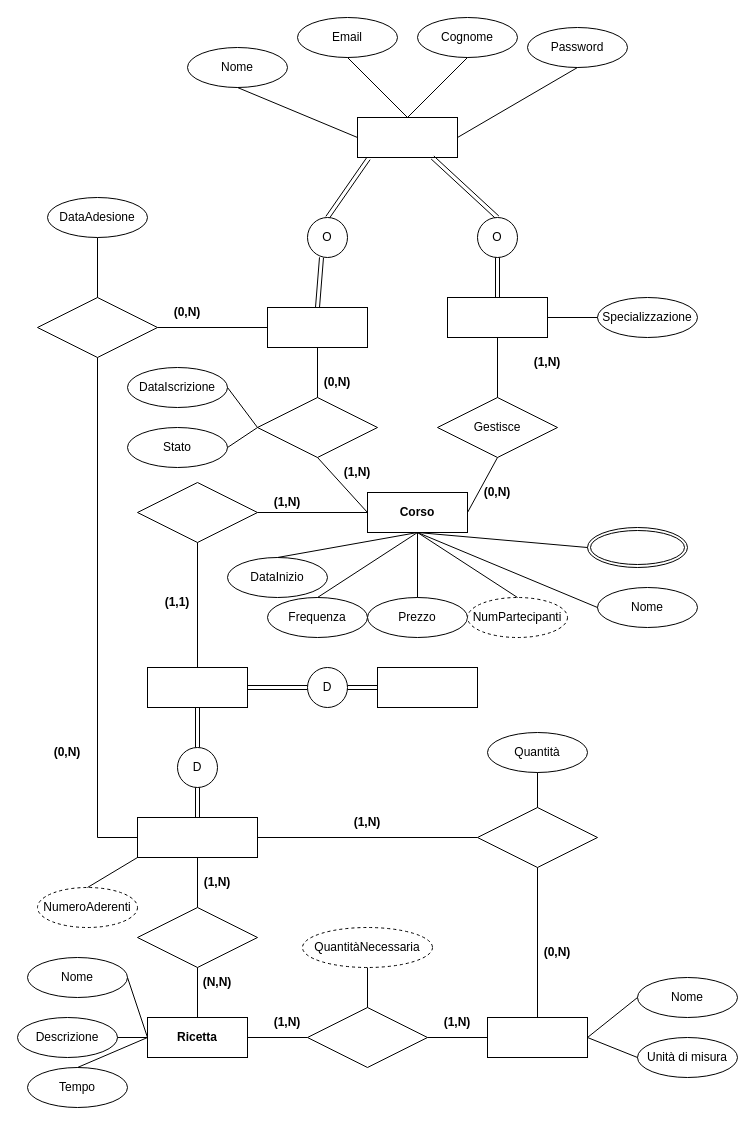
The diagram is 755 pixels wide and 1125 high, and some of its shapes have lost their labels. The centre of each missing label's shape, as x and y in pixels:
Adesione: point (97, 327)
Argomenti: point (637, 547)
Chef: point (497, 317)
Compone: point (197, 512)
Ingrediente: point (537, 1037)
iscrizione: point (317, 427)
Richiede: point (367, 1037)
Sessione: point (197, 687)
SessioneIngrediente: point (537, 837)
SessioneOnline: point (427, 687)
SessionePresenza: point (197, 837)
Studente: point (317, 327)
SìPrepara: point (197, 937)
Utente: point (407, 137)
